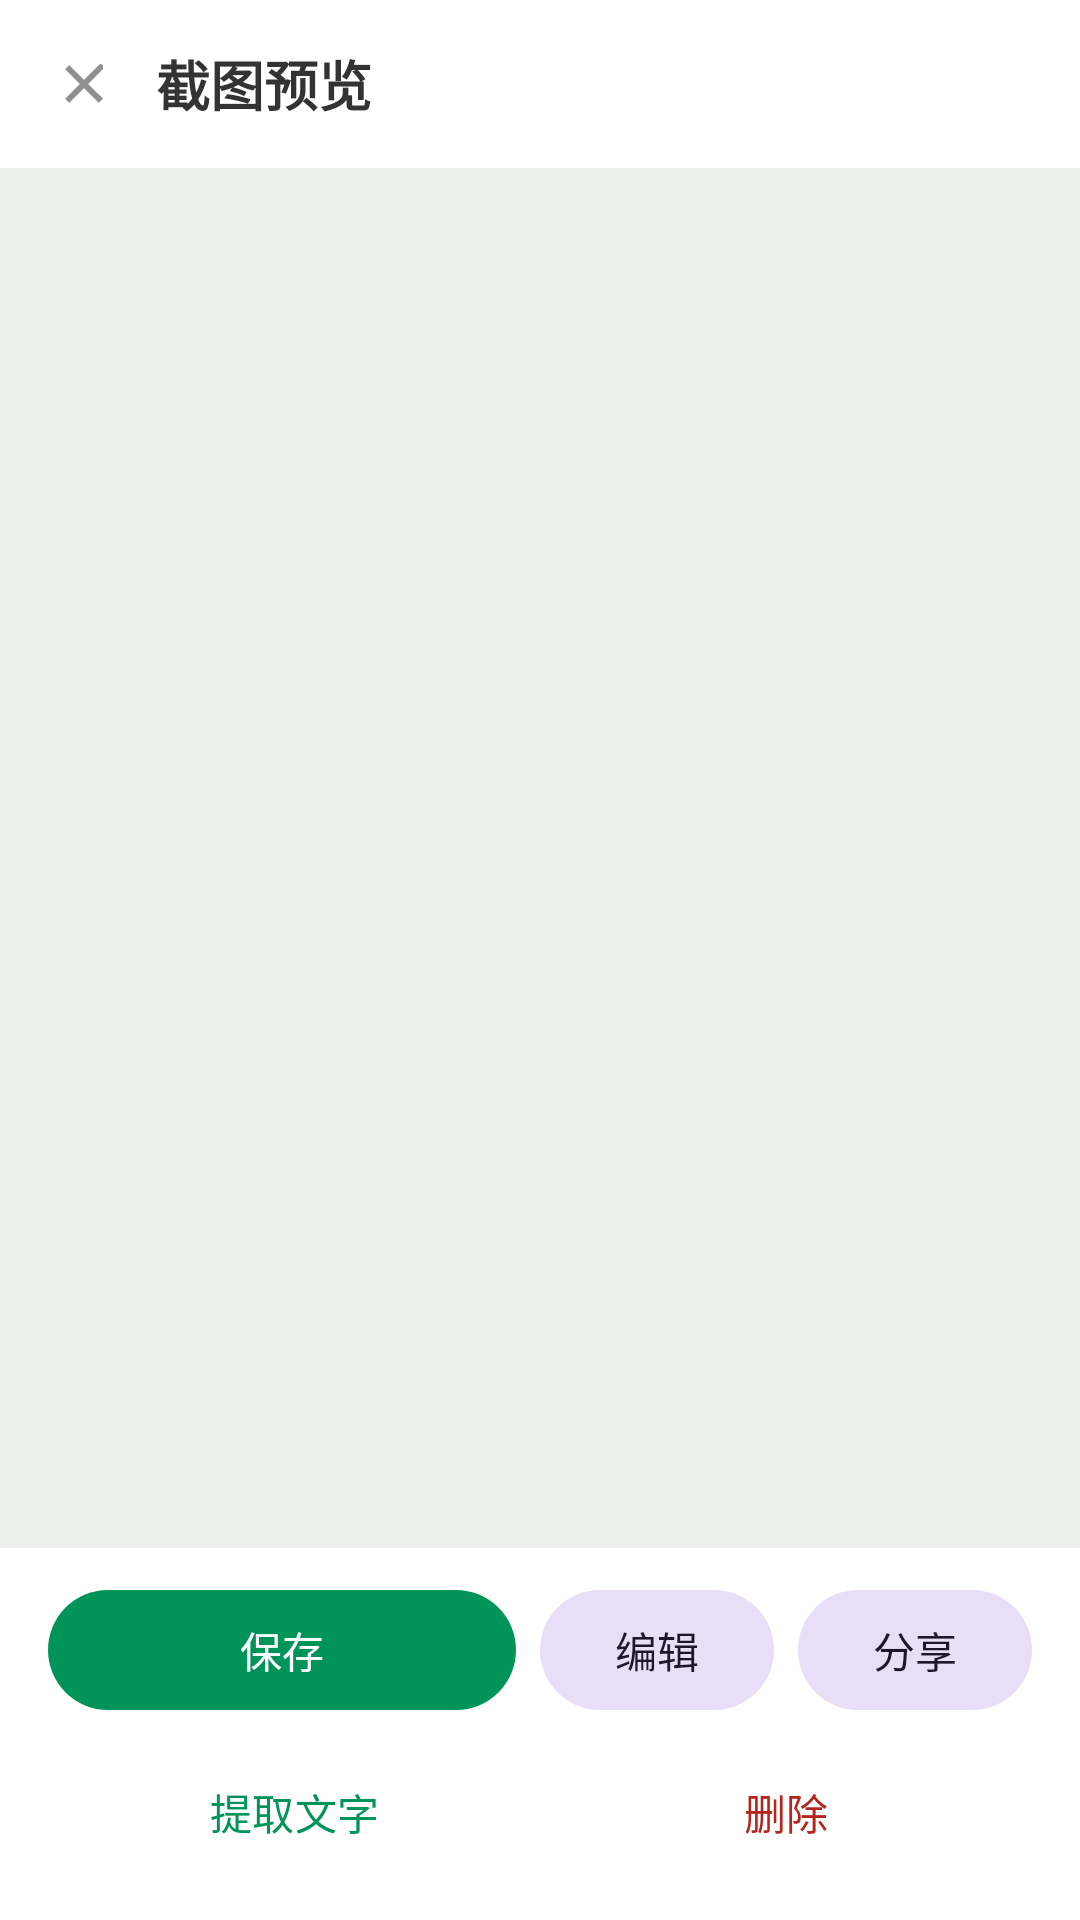

Named icons in this screenshot (1080 × 1920) and their bounding boxes, (x1, y1, x2, y2):
关闭: (65, 64, 103, 103)
